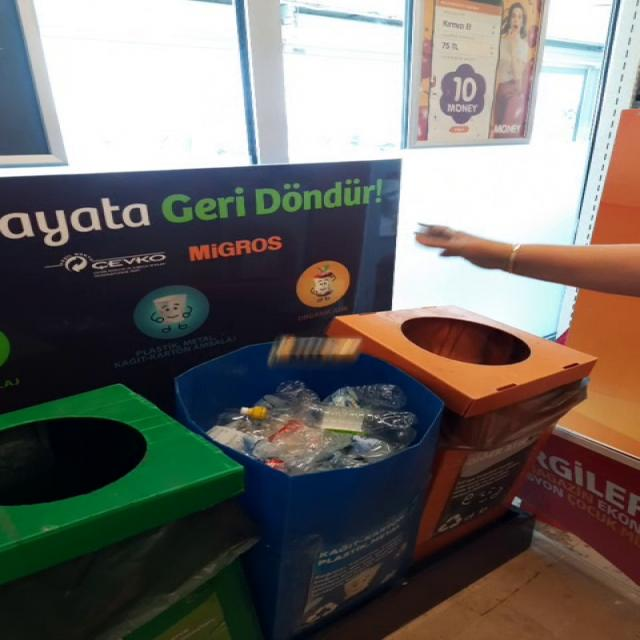bin: (176, 307, 597, 640), (0, 385, 244, 584)
metal: (268, 335, 363, 368)
